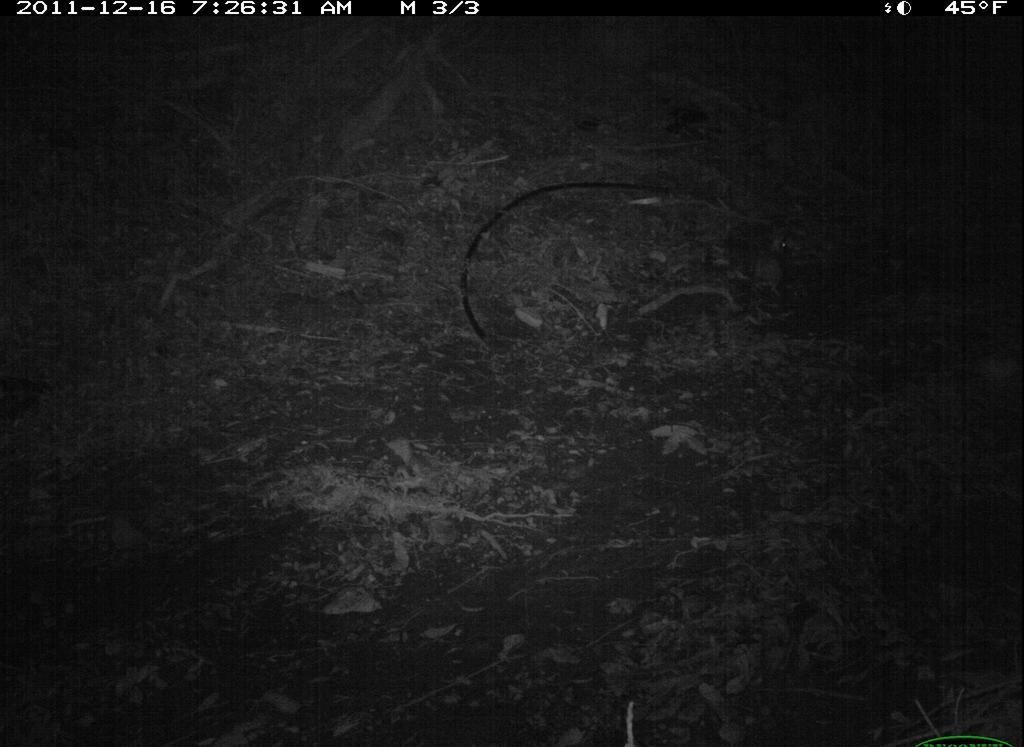rabbit: (720, 209, 801, 290)
